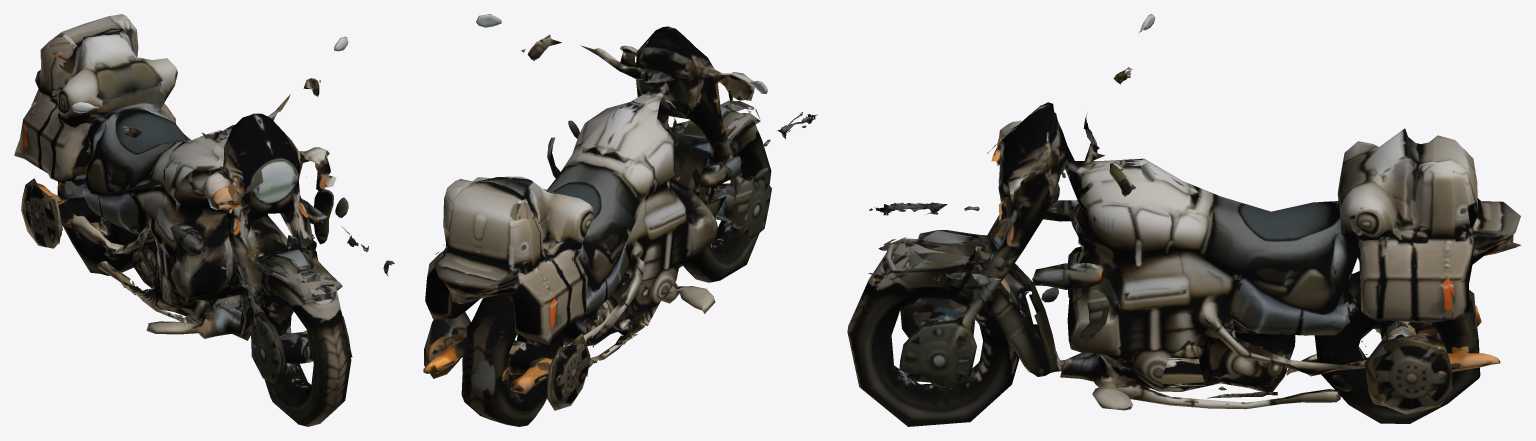
Rendered from steampunk+motorcycle+3d+model.fbx.
3 renders of one model, left to right at view 1: azimuth 30°, elevation 25°; view 2: azimuth 150°, elevation 25°; view 3: azimuth 270°, elevation 25°, orthographic. The views are drawn at different scales.
Visible parts, largest first — view 1: tripo_node_4404abfc; view 2: tripo_node_4404abfc; view 3: tripo_node_4404abfc.
Part boxes in pixels (x1,y1,x2,y2): tripo_node_4404abfc: (14, 14, 394, 426); tripo_node_4404abfc: (423, 14, 817, 426); tripo_node_4404abfc: (847, 14, 1521, 426).
Size of the model in its own units: 0.5506 by 0.5355 by 0.9804.
Materials: 1 (1 with a texture image).
